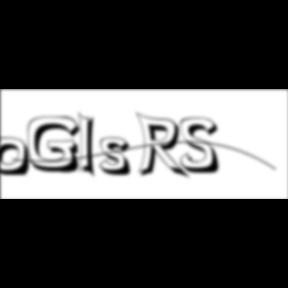G: (29, 116, 88, 176)
I: (78, 110, 102, 182)
R: (136, 112, 192, 182)
S: (180, 117, 226, 176)
o: (1, 137, 34, 179)
s: (100, 137, 138, 179)
